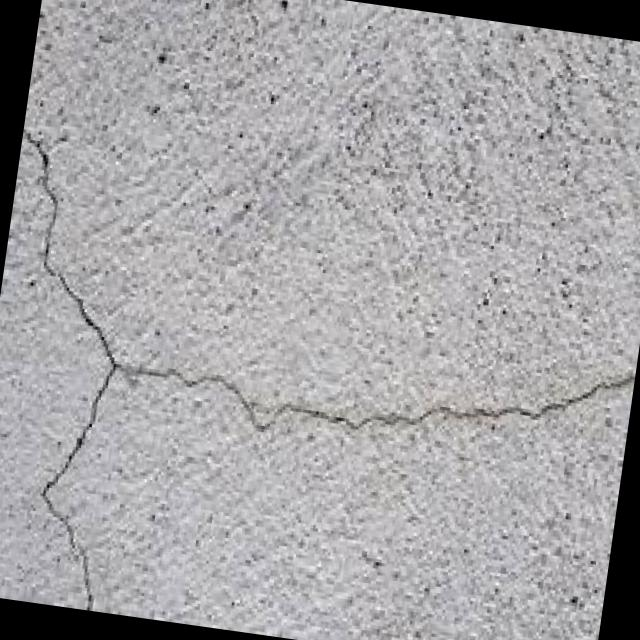crack: (118, 296, 636, 469), (0, 120, 148, 357), (28, 353, 134, 610)
